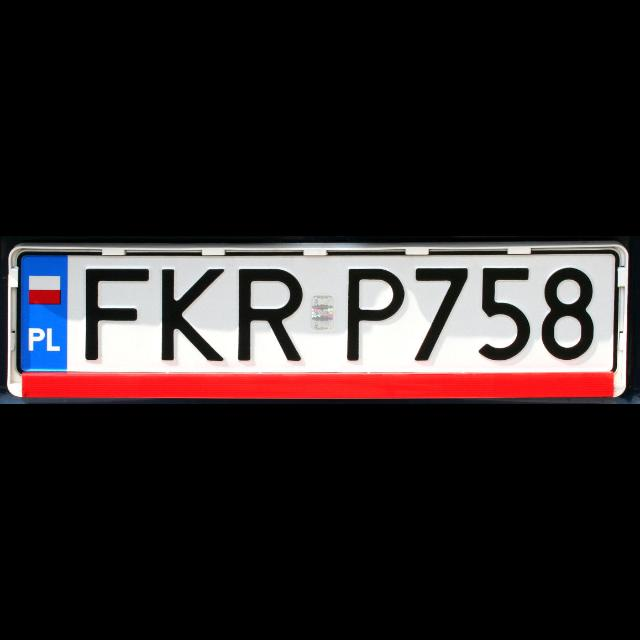pl_license_plate: (20, 254, 614, 370)
